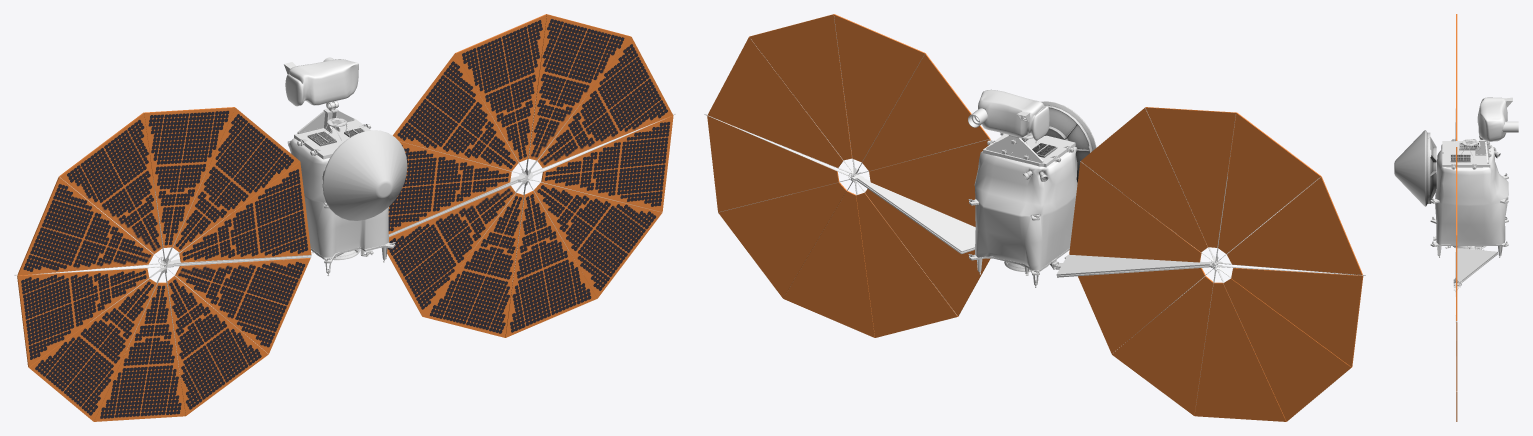
The model's file is lucy.glb.
3 views of the same model, side by side, from view 1: azimuth 30°, elevation 25°; view 2: azimuth 150°, elevation 25°; view 3: azimuth 270°, elevation 25° (orthographic). The views are drawn at different scales.
Visible parts, largest first — view 1: array_left, BUS, HGA, array_left_gears, gimbal_left; view 2: array_left, BUS, array_left_gears, gimbal_left, HGS_base; view 3: BUS, HGA, gimbal_left, array_left_gears, HGS_base, array_left, corner_instruments, platform_bottom.
Boxes of the visible parts, bbox=[...] form: array_left: bbox=[17, 14, 673, 421]; BUS: bbox=[285, 59, 388, 257]; HGA: bbox=[323, 130, 407, 220]; array_left_gears: bbox=[14, 95, 675, 378]; gimbal_left: bbox=[284, 57, 373, 256]; array_left: bbox=[707, 14, 1363, 421]; BUS: bbox=[974, 89, 1077, 270]; array_left_gears: bbox=[704, 16, 1365, 404]; gimbal_left: bbox=[968, 108, 1075, 269]; HGS_base: bbox=[1022, 101, 1096, 182]; BUS: bbox=[1435, 97, 1508, 244]; HGA: bbox=[1394, 130, 1425, 206]; gimbal_left: bbox=[1433, 97, 1518, 250]; array_left_gears: bbox=[1453, 109, 1497, 355]; HGS_base: bbox=[1425, 130, 1479, 206]; array_left: bbox=[1452, 14, 1500, 421]; corner_instruments: bbox=[1430, 173, 1508, 249]; platform_bottom: bbox=[1430, 177, 1508, 246].
Size of the model in its own units: 15.6 by 7.07 by 3.21.
Materials: 11 (3 with a texture image).
